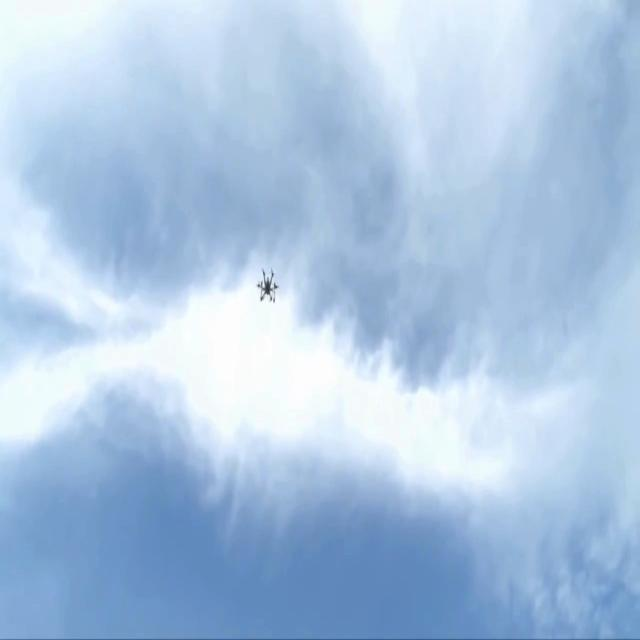drone: (256, 267, 278, 303)
